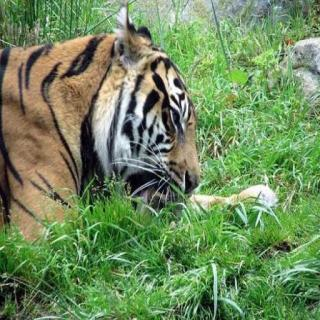Tiger: (0, 3, 207, 264)
